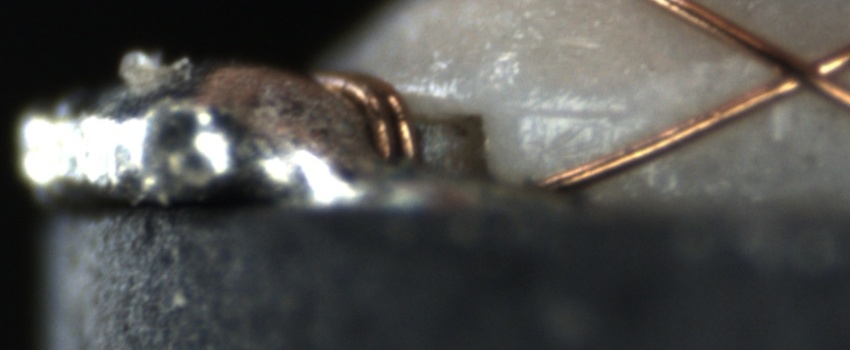CL: (748, 34, 847, 108)
DL: (517, 86, 616, 144)
TE: (310, 62, 418, 165)
